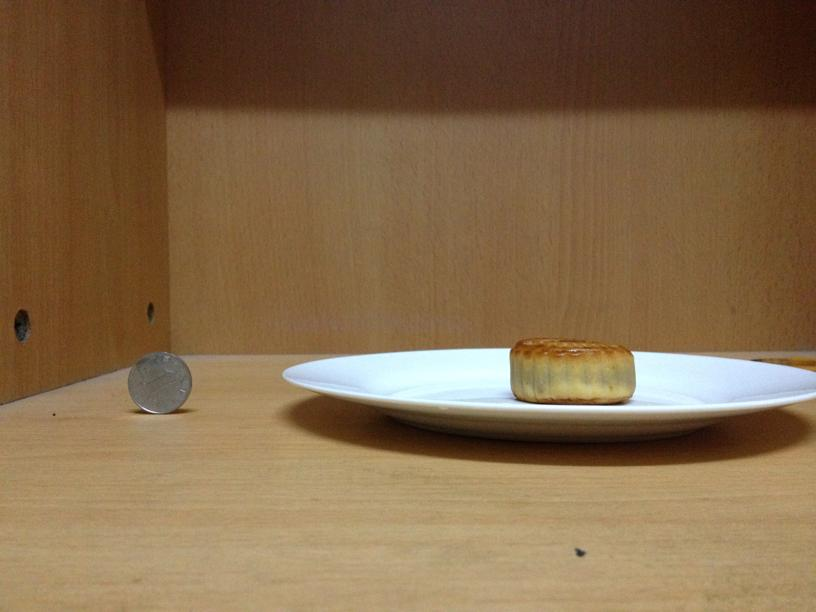coin: (129, 352, 192, 414)
mooncake: (510, 336, 636, 402)
